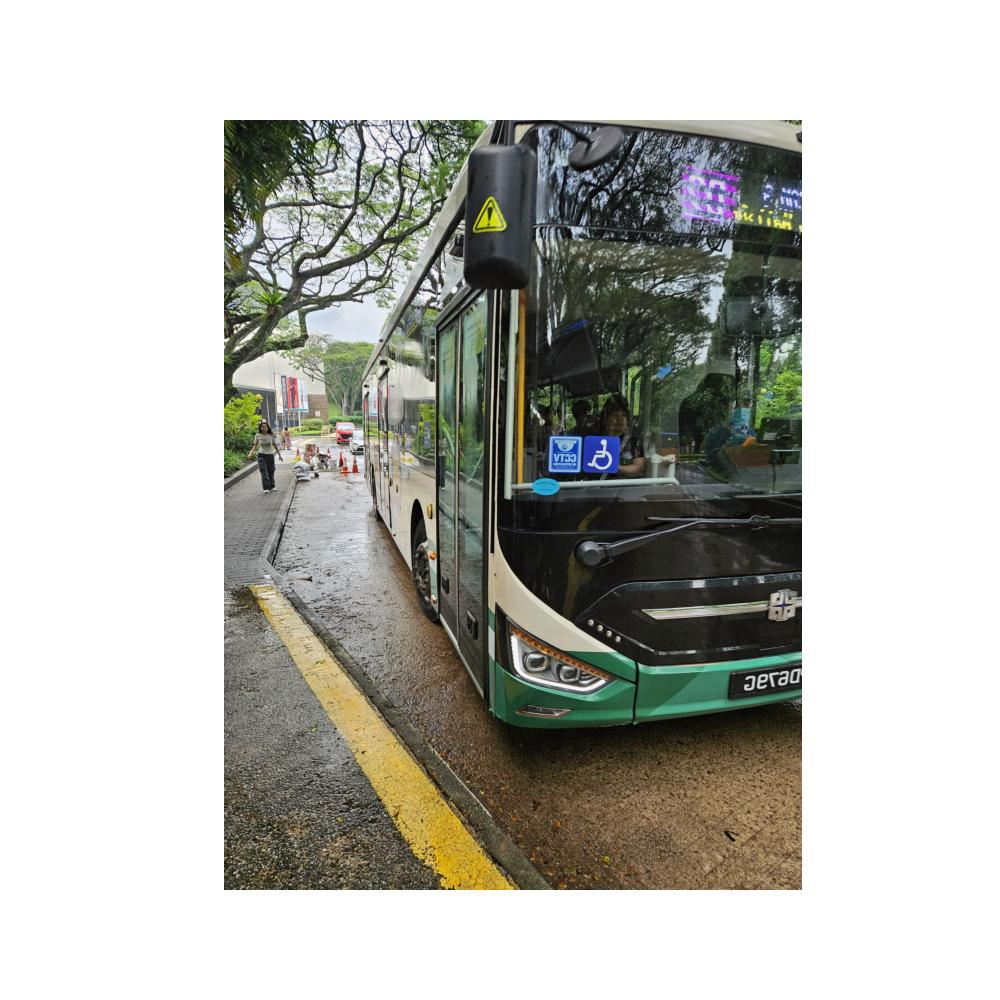bus: (350, 121, 801, 738)
